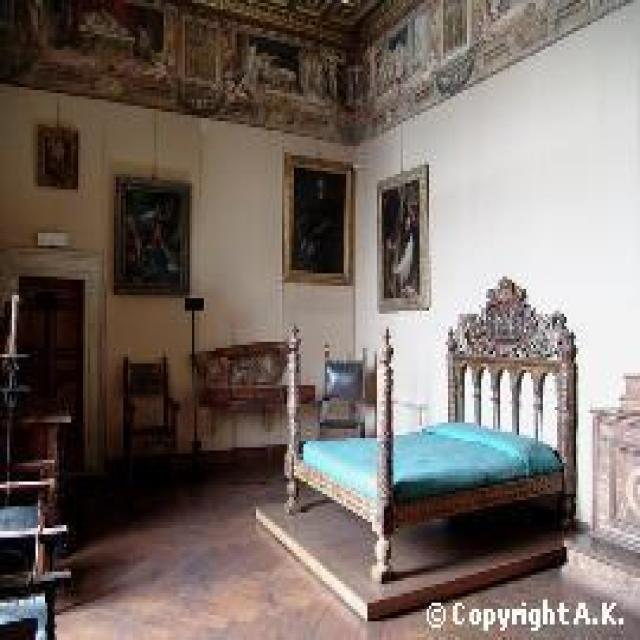crib: (275, 274, 578, 615)
windows: (280, 149, 353, 283)
